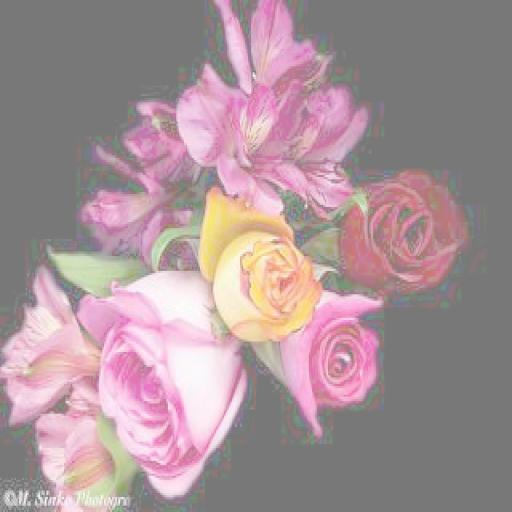rose: (80, 273, 245, 497), (200, 192, 318, 343), (344, 168, 458, 294), (285, 294, 376, 420)
